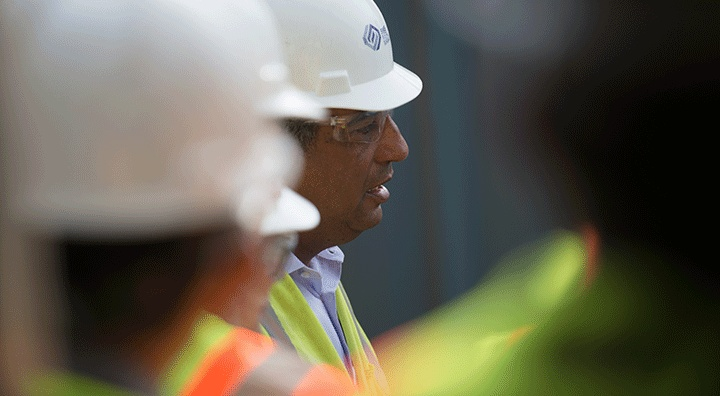helmet: (237, 1, 422, 111)
person with full safety: (227, 7, 436, 396)
safety vest: (240, 252, 393, 396)
